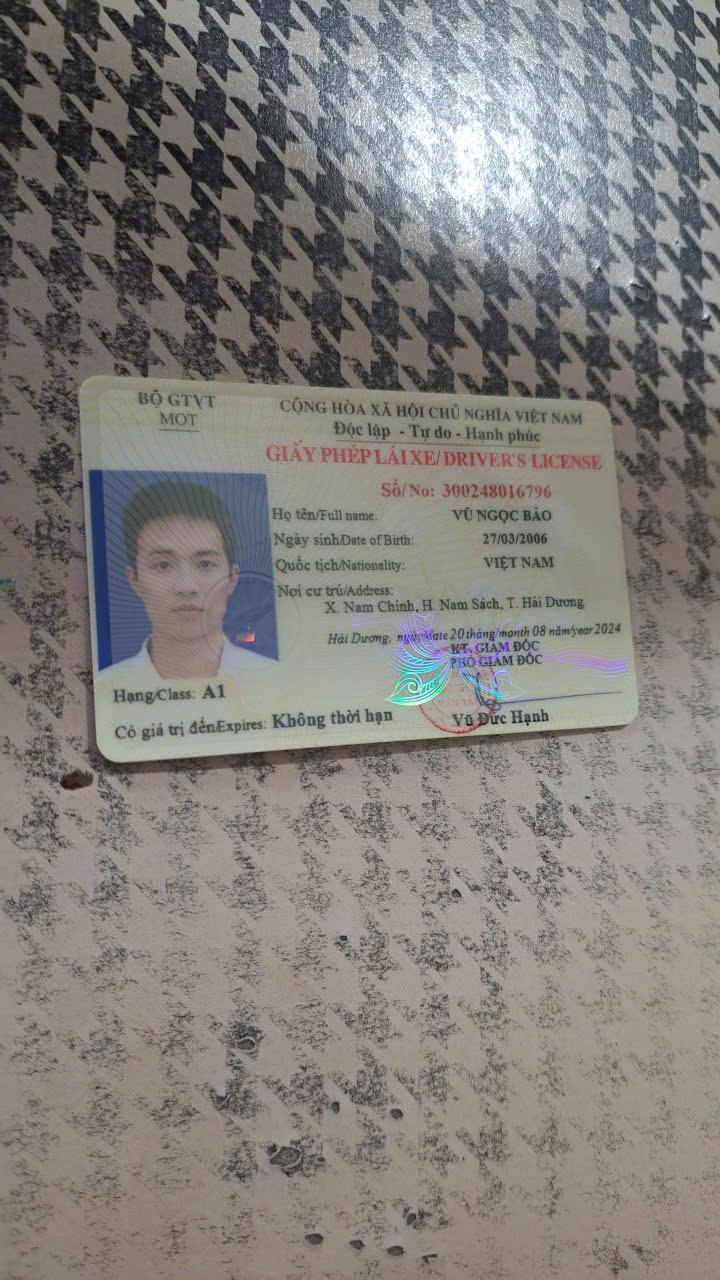gplx: (72, 371, 648, 775)
